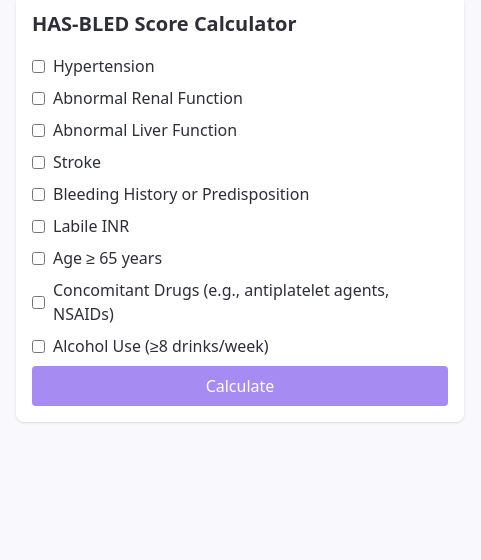
Test: HASBLEDCalculator › calculates the correct HAS-BLED score
What coordinates should you click on to do the following:
click the checkbox labelled "Hypertension"
I would click on:
 (38, 66)
Its box is [32,60,45,72].
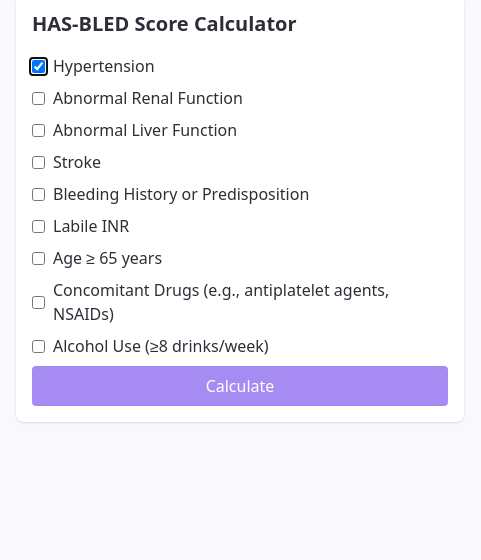
What coordinates should you click on to do the following:
click the checkbox labelled "Stroke"
I would click on:
 (38, 162)
Its box is [32,156,45,168].
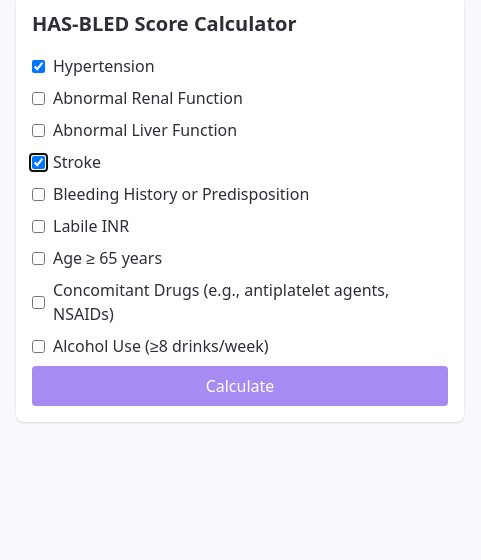
What coordinates should you click on to do the following:
click the button "Calculate"
I would click on:
 (240, 386)
Its box is [32,366,448,406].
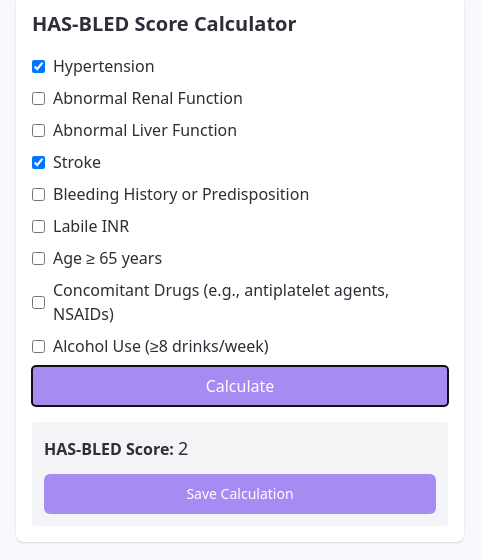
Check: the text "HAS-BLED Score:" is shown, box [44,438,178,460]
Check: the text "2" is shown, box [178,436,188,460]
